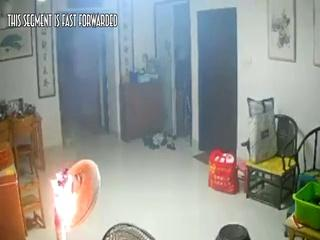Fire: (49, 142, 96, 234)
